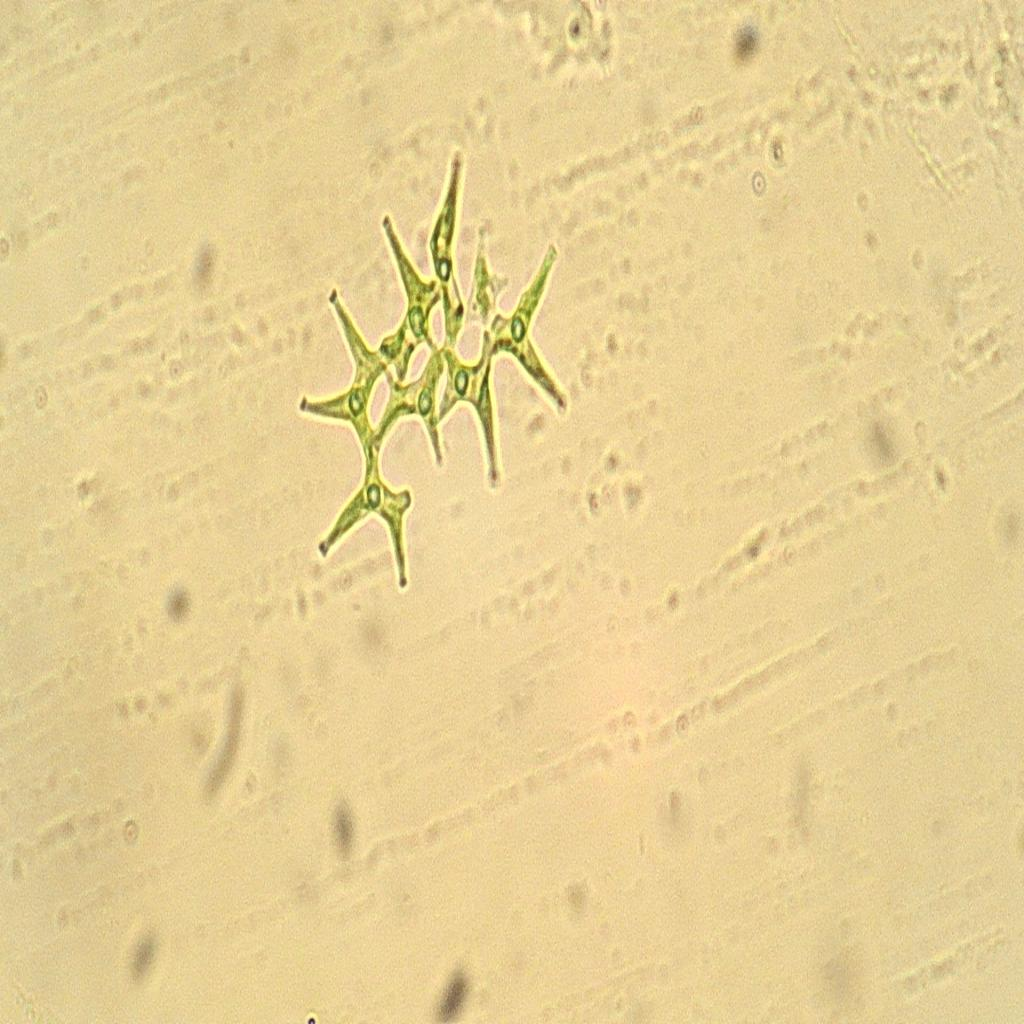Pediastrum_CFI: (292, 146, 574, 596)
